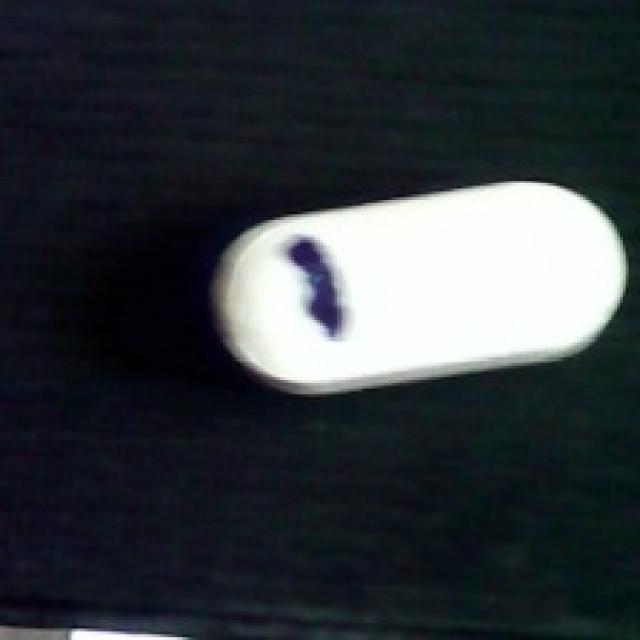defected: (194, 183, 632, 400)
